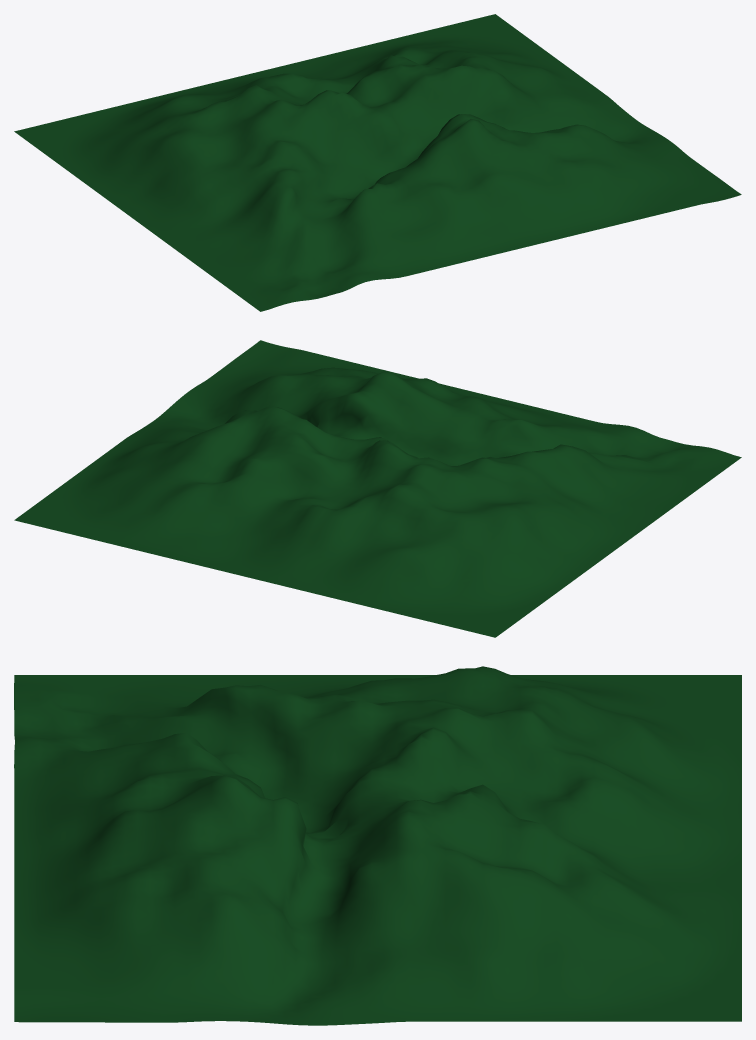
Rendered from base_mundo_creada1.obj.
3 views of the same model, one above another, from view 1: azimuth 30°, elevation 25°; view 2: azimuth 150°, elevation 25°; view 3: azimuth 270°, elevation 25° (orthographic). The views are drawn at different scales.
Visible parts, largest first — view 1: Landscape; view 2: Landscape; view 3: Landscape.
Part boxes in pixels (x1,y1,x2,y2): Landscape: [14, 14, 741, 311]; Landscape: [14, 340, 741, 637]; Landscape: [14, 666, 741, 1025].
Bounding box in the file's own units: 30.8 × 4.57 × 27.3.
